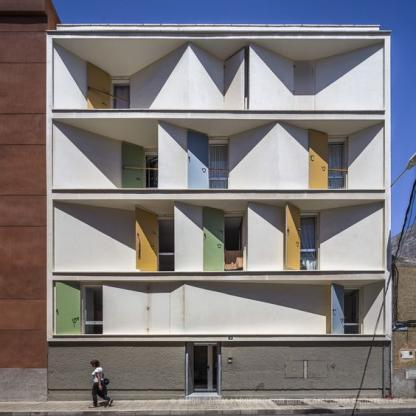Blind: (136, 206, 158, 271), (202, 206, 224, 271), (55, 281, 81, 334), (187, 128, 209, 188), (86, 61, 111, 109), (308, 129, 327, 188), (122, 141, 144, 188), (294, 61, 315, 110), (285, 202, 300, 270), (330, 283, 344, 334)
Building Outline: (46, 24, 392, 401)
Dont: (88, 359, 115, 409)
Door: (185, 342, 222, 401)
Facade: (46, 31, 392, 401)
Floor: (46, 199, 392, 273), (46, 119, 392, 193), (46, 280, 392, 336)
Floor Slab: (46, 192, 392, 199), (46, 273, 392, 280), (46, 335, 392, 342), (46, 113, 392, 119)
Ground Floor: (46, 342, 392, 401)
Top Floor: (46, 31, 392, 113)
Window: (294, 61, 315, 110), (224, 217, 243, 271), (300, 215, 317, 270), (85, 287, 103, 334), (210, 145, 229, 189), (158, 219, 174, 271), (328, 142, 345, 189), (345, 289, 360, 334), (113, 84, 130, 109), (146, 156, 158, 189)
